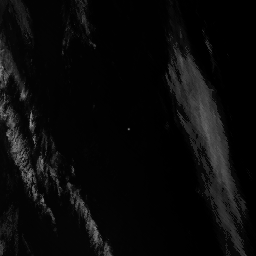Target: (126, 127, 130, 131)
